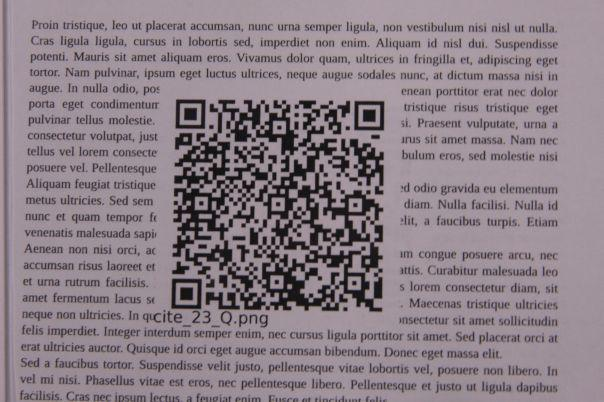Finder pattern: (170, 95, 210, 136), (350, 96, 390, 137), (168, 276, 207, 314)
